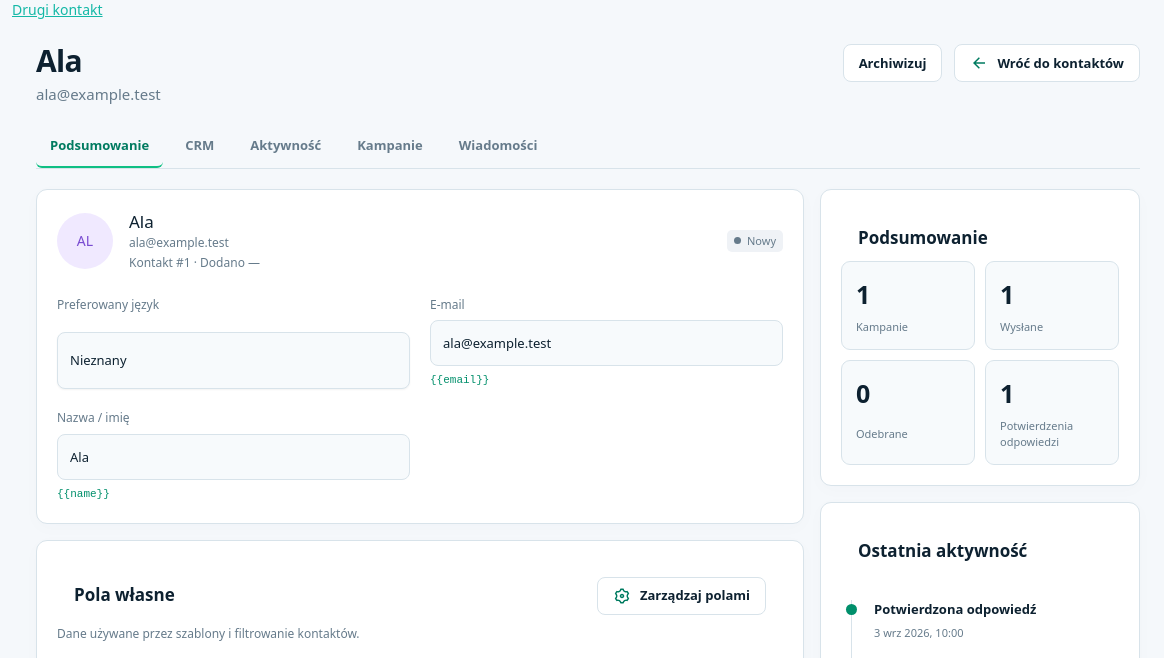
Test case: uses typed fields and preserves numbers and unknown structured data when saving a name
Replace the text in the field labelled "Nazwa / imię" with "Nowa nazwa" at [234, 457], box [57,434,410,480]
(page scrolled)
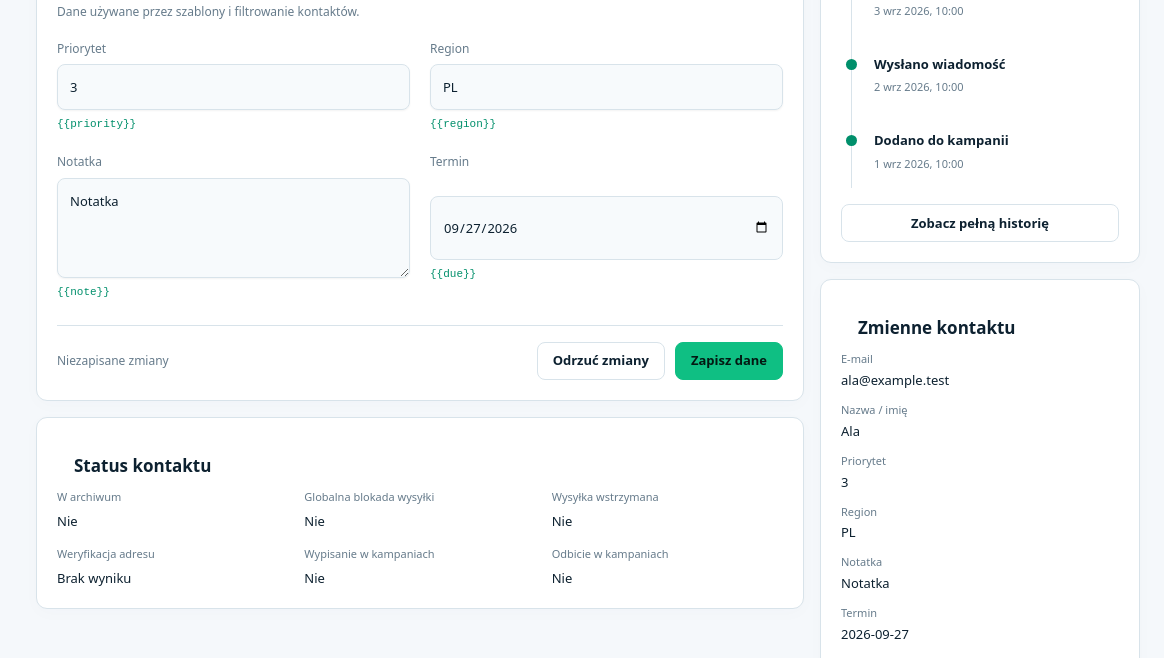
Click the button "Zapisz dane" at [729, 361], box [675,342,783,380]
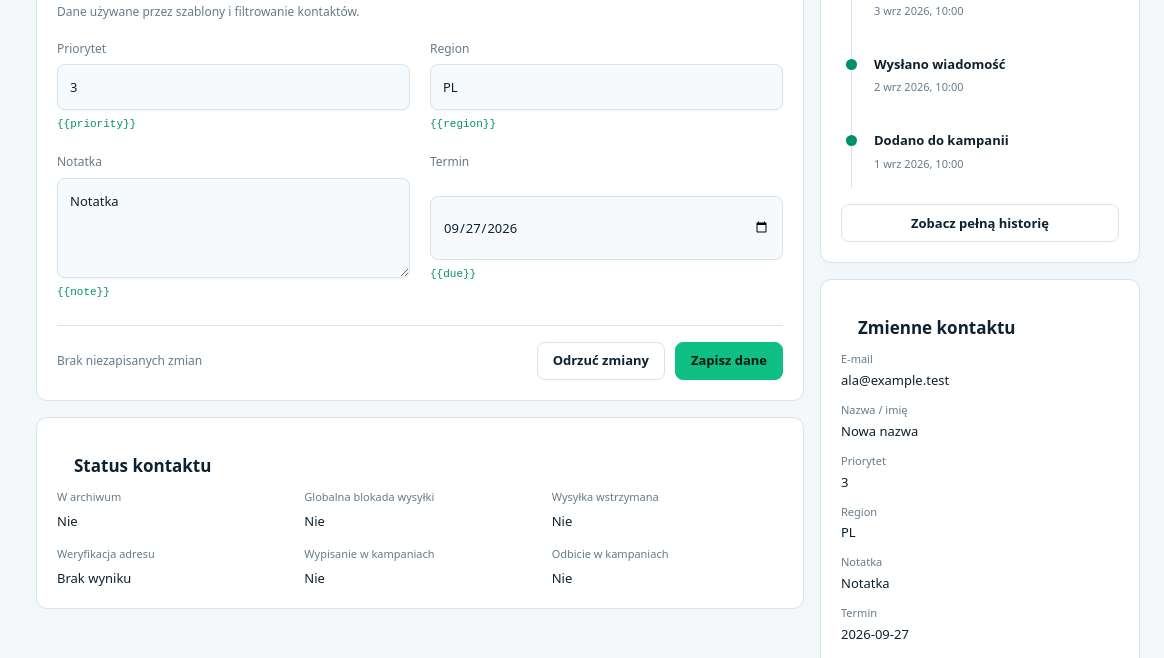
expect the text "Brak niezapisanych zmian" is shown: met, box [57,352,202,369]
